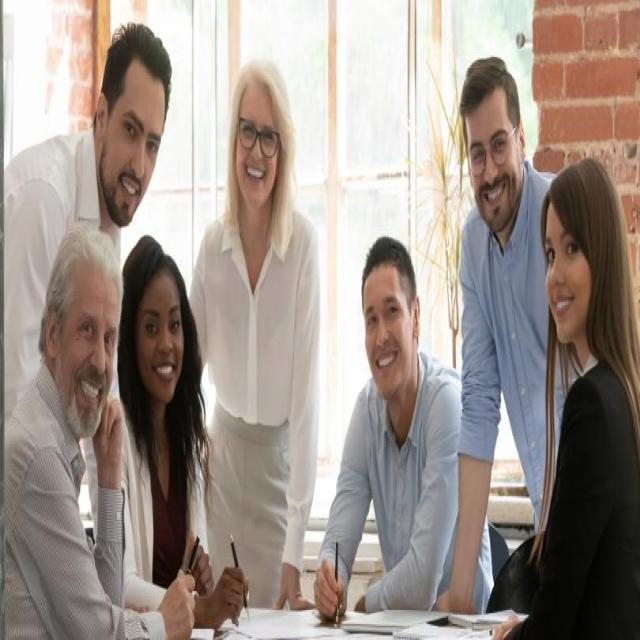No_BreathingApparatus: (98, 86, 163, 227), (59, 297, 118, 410), (229, 97, 284, 213)
No_Glove: (197, 557, 248, 634), (159, 571, 199, 639), (311, 558, 345, 625)
No_Goggles: (110, 110, 160, 150), (464, 126, 514, 166), (136, 302, 184, 342), (65, 306, 115, 344), (361, 295, 408, 331), (542, 233, 583, 268)
No_Helmet: (102, 17, 174, 93), (49, 227, 121, 302), (540, 156, 619, 222), (342, 229, 420, 294), (458, 53, 523, 118), (125, 233, 184, 296), (228, 55, 291, 113)
